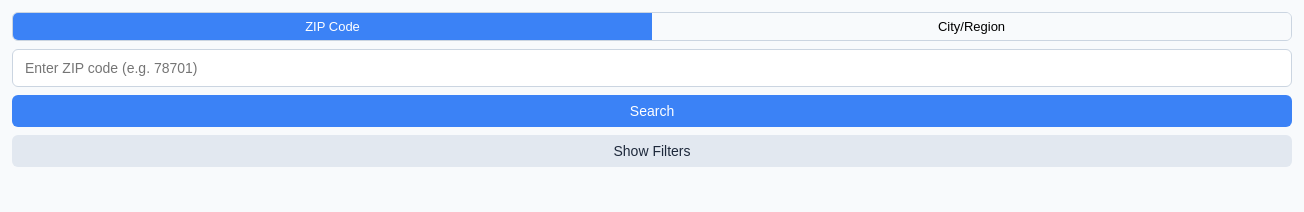
Test case: SearchPanel › shows validation error for empty search
What coordinates should you click on to do the following:
click the button with test id "search-submit-button"
I would click on:
 (652, 111)
Its box is [12,95,1292,127].
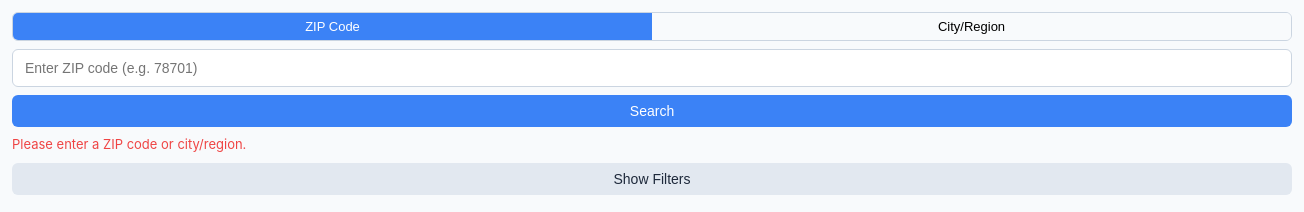
Now the message shows "ZIP code or city", box [12,136,246,152]
